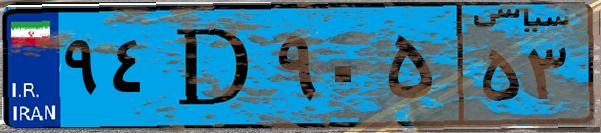0: (330, 28, 385, 110)
3: (525, 38, 570, 115)
4: (110, 28, 158, 98)
5: (385, 28, 445, 110), (475, 38, 525, 113)
9: (270, 28, 330, 110), (57, 26, 110, 100)
D: (158, 12, 270, 120)
